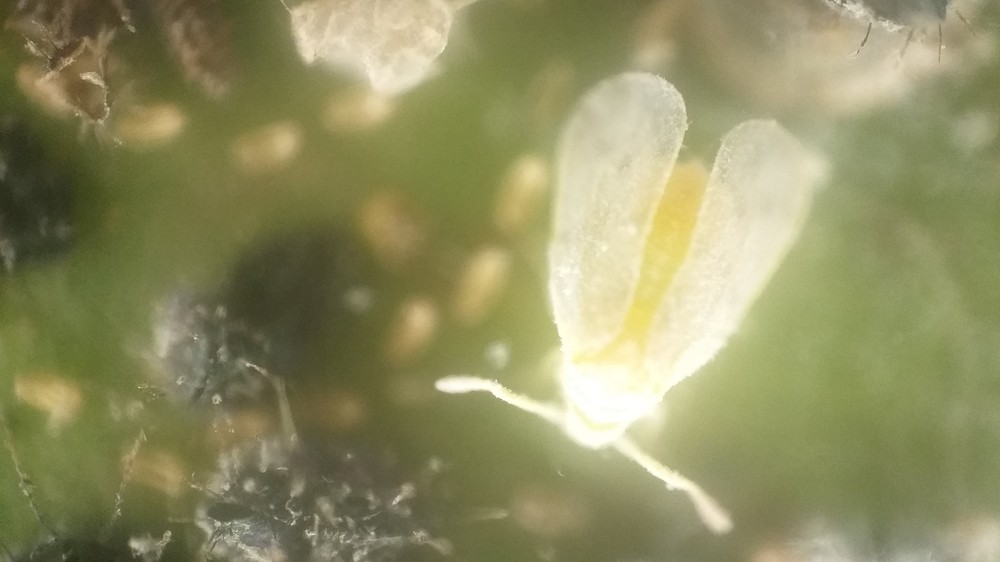Mosca Blanca: (426, 54, 830, 544)
